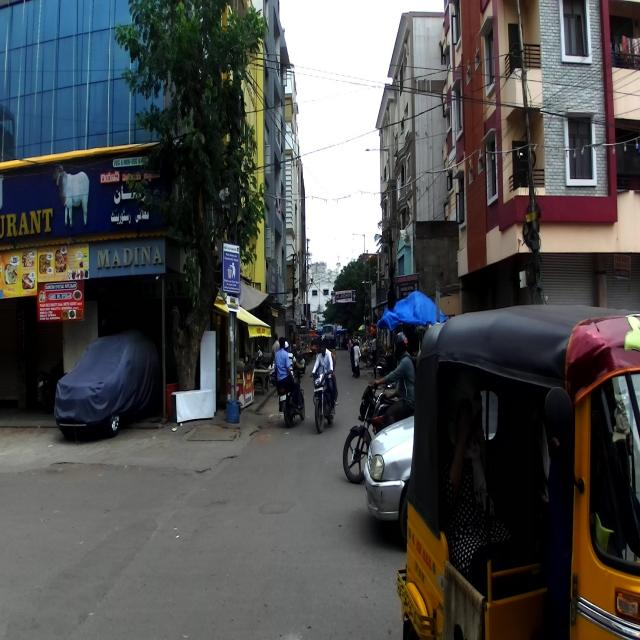autorickshaw: (393, 304, 640, 638)
car: (53, 330, 163, 439)
motorcycle: (342, 364, 417, 482), (309, 365, 336, 432), (278, 360, 304, 427)
